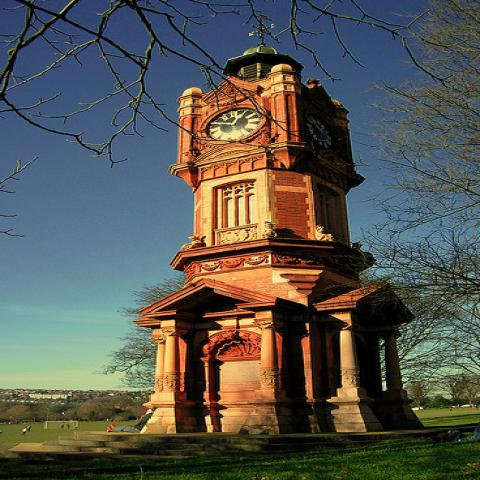car: (460, 404, 469, 408)
